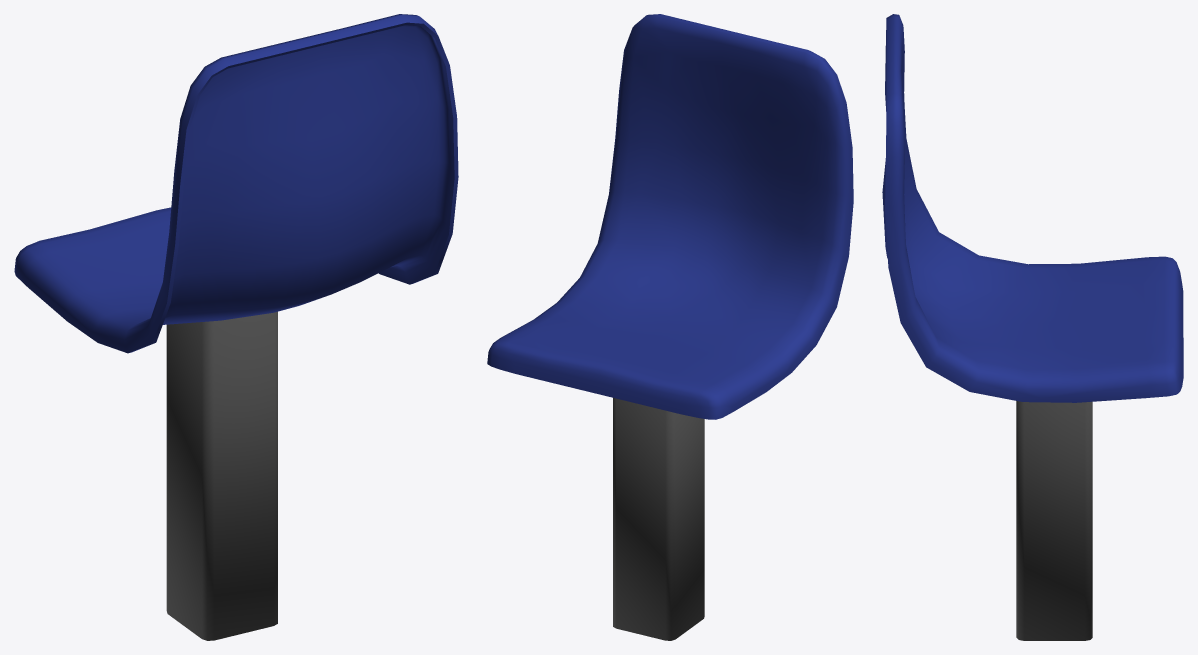
The model's file is chair_LOD0.fbx.
The picture shows the model from 3 angles, left to right: view 1: azimuth 30°, elevation 25°; view 2: azimuth 150°, elevation 25°; view 3: azimuth 270°, elevation 25°; orthographic projection. The views are drawn at different scales.
Visible parts, largest first — view 1: Seat, Chair; view 2: Seat, Chair; view 3: Seat, Chair.
Boxes of the visible parts, x1,y1,x2,y2 form: Seat: (14,14,458,353); Chair: (166,311,277,640); Seat: (487,14,853,419); Chair: (613,398,704,640); Seat: (882,14,1183,402); Chair: (1016,401,1092,640).
Size of the model in its own units: 74.21 by 161 by 76.85.
